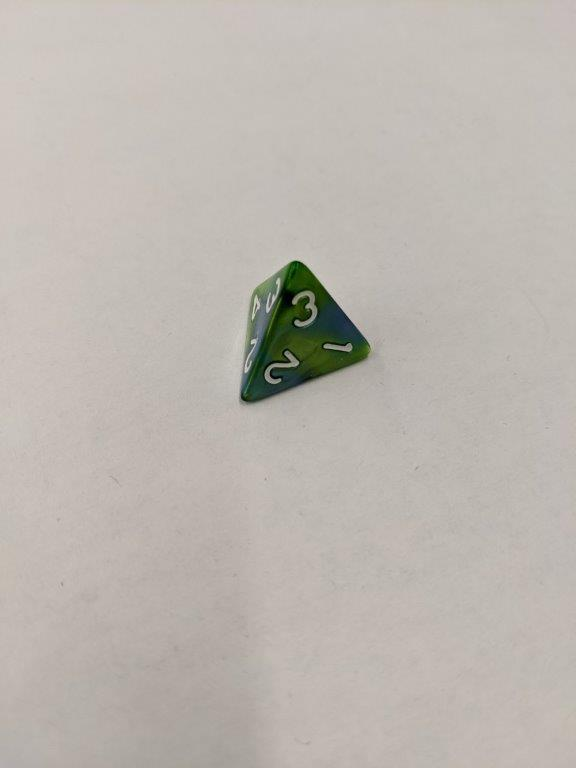d4-3: (236, 257, 373, 404)
